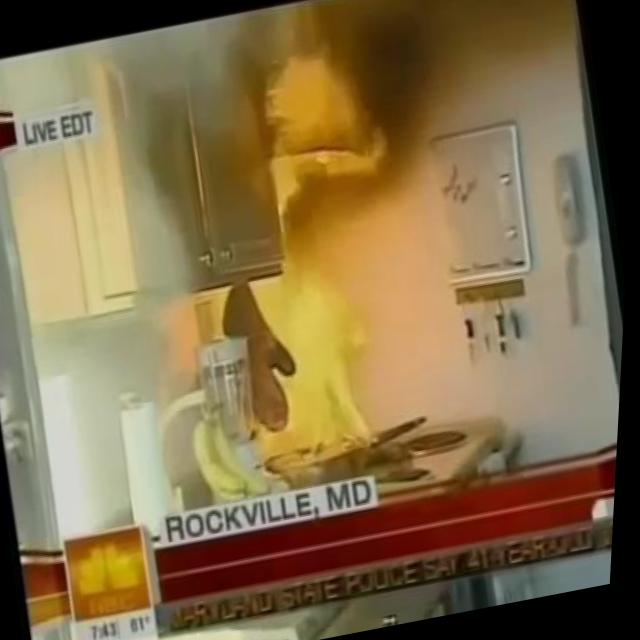fire: (214, 202, 407, 484)
